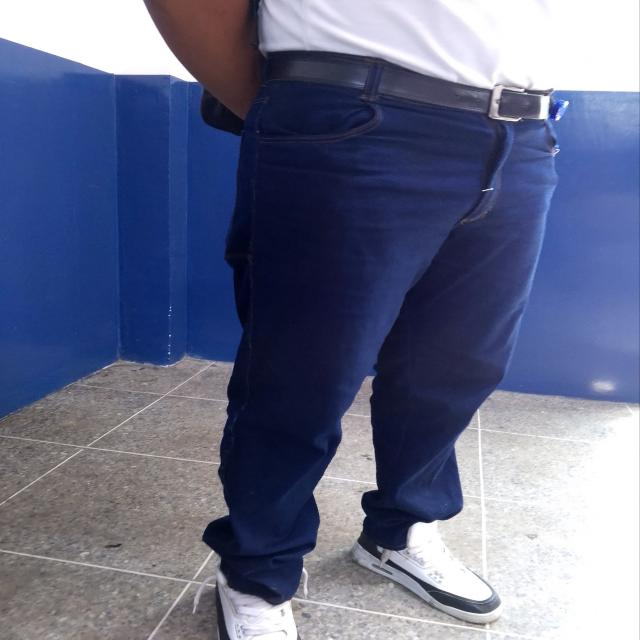pantalon_oscuro: (198, 77, 562, 607)
